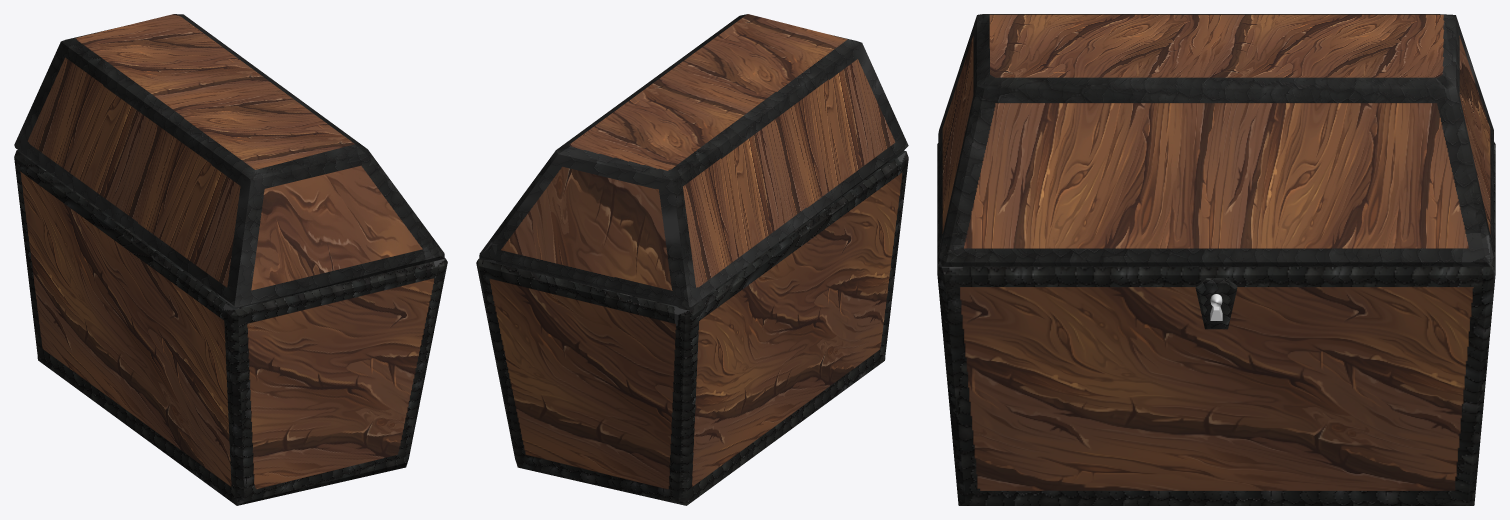
The model's file is chest.glb.
3 views of the same model, side by side, from view 1: azimuth 30°, elevation 25°; view 2: azimuth 150°, elevation 25°; view 3: azimuth 270°, elevation 25° (orthographic). The views are drawn at different scales.
Parts seen in each view (by area): view 1: Cube, Cube.001; view 2: Cube, Cube.001; view 3: Cube.001, Cube, Cube.002.
Boxes of the visible parts, bbox=[...] form: Cube: bbox=[14, 150, 447, 505]; Cube.001: bbox=[14, 14, 444, 308]; Cube: bbox=[476, 150, 908, 505]; Cube.001: bbox=[479, 14, 908, 308]; Cube.001: bbox=[938, 14, 1493, 266]; Cube: bbox=[937, 142, 1495, 505]; Cube.002: bbox=[1195, 278, 1237, 329].
Size of the model in its own units: 2.36 by 3.14 by 3.9.
3 materials, 3 textured.
